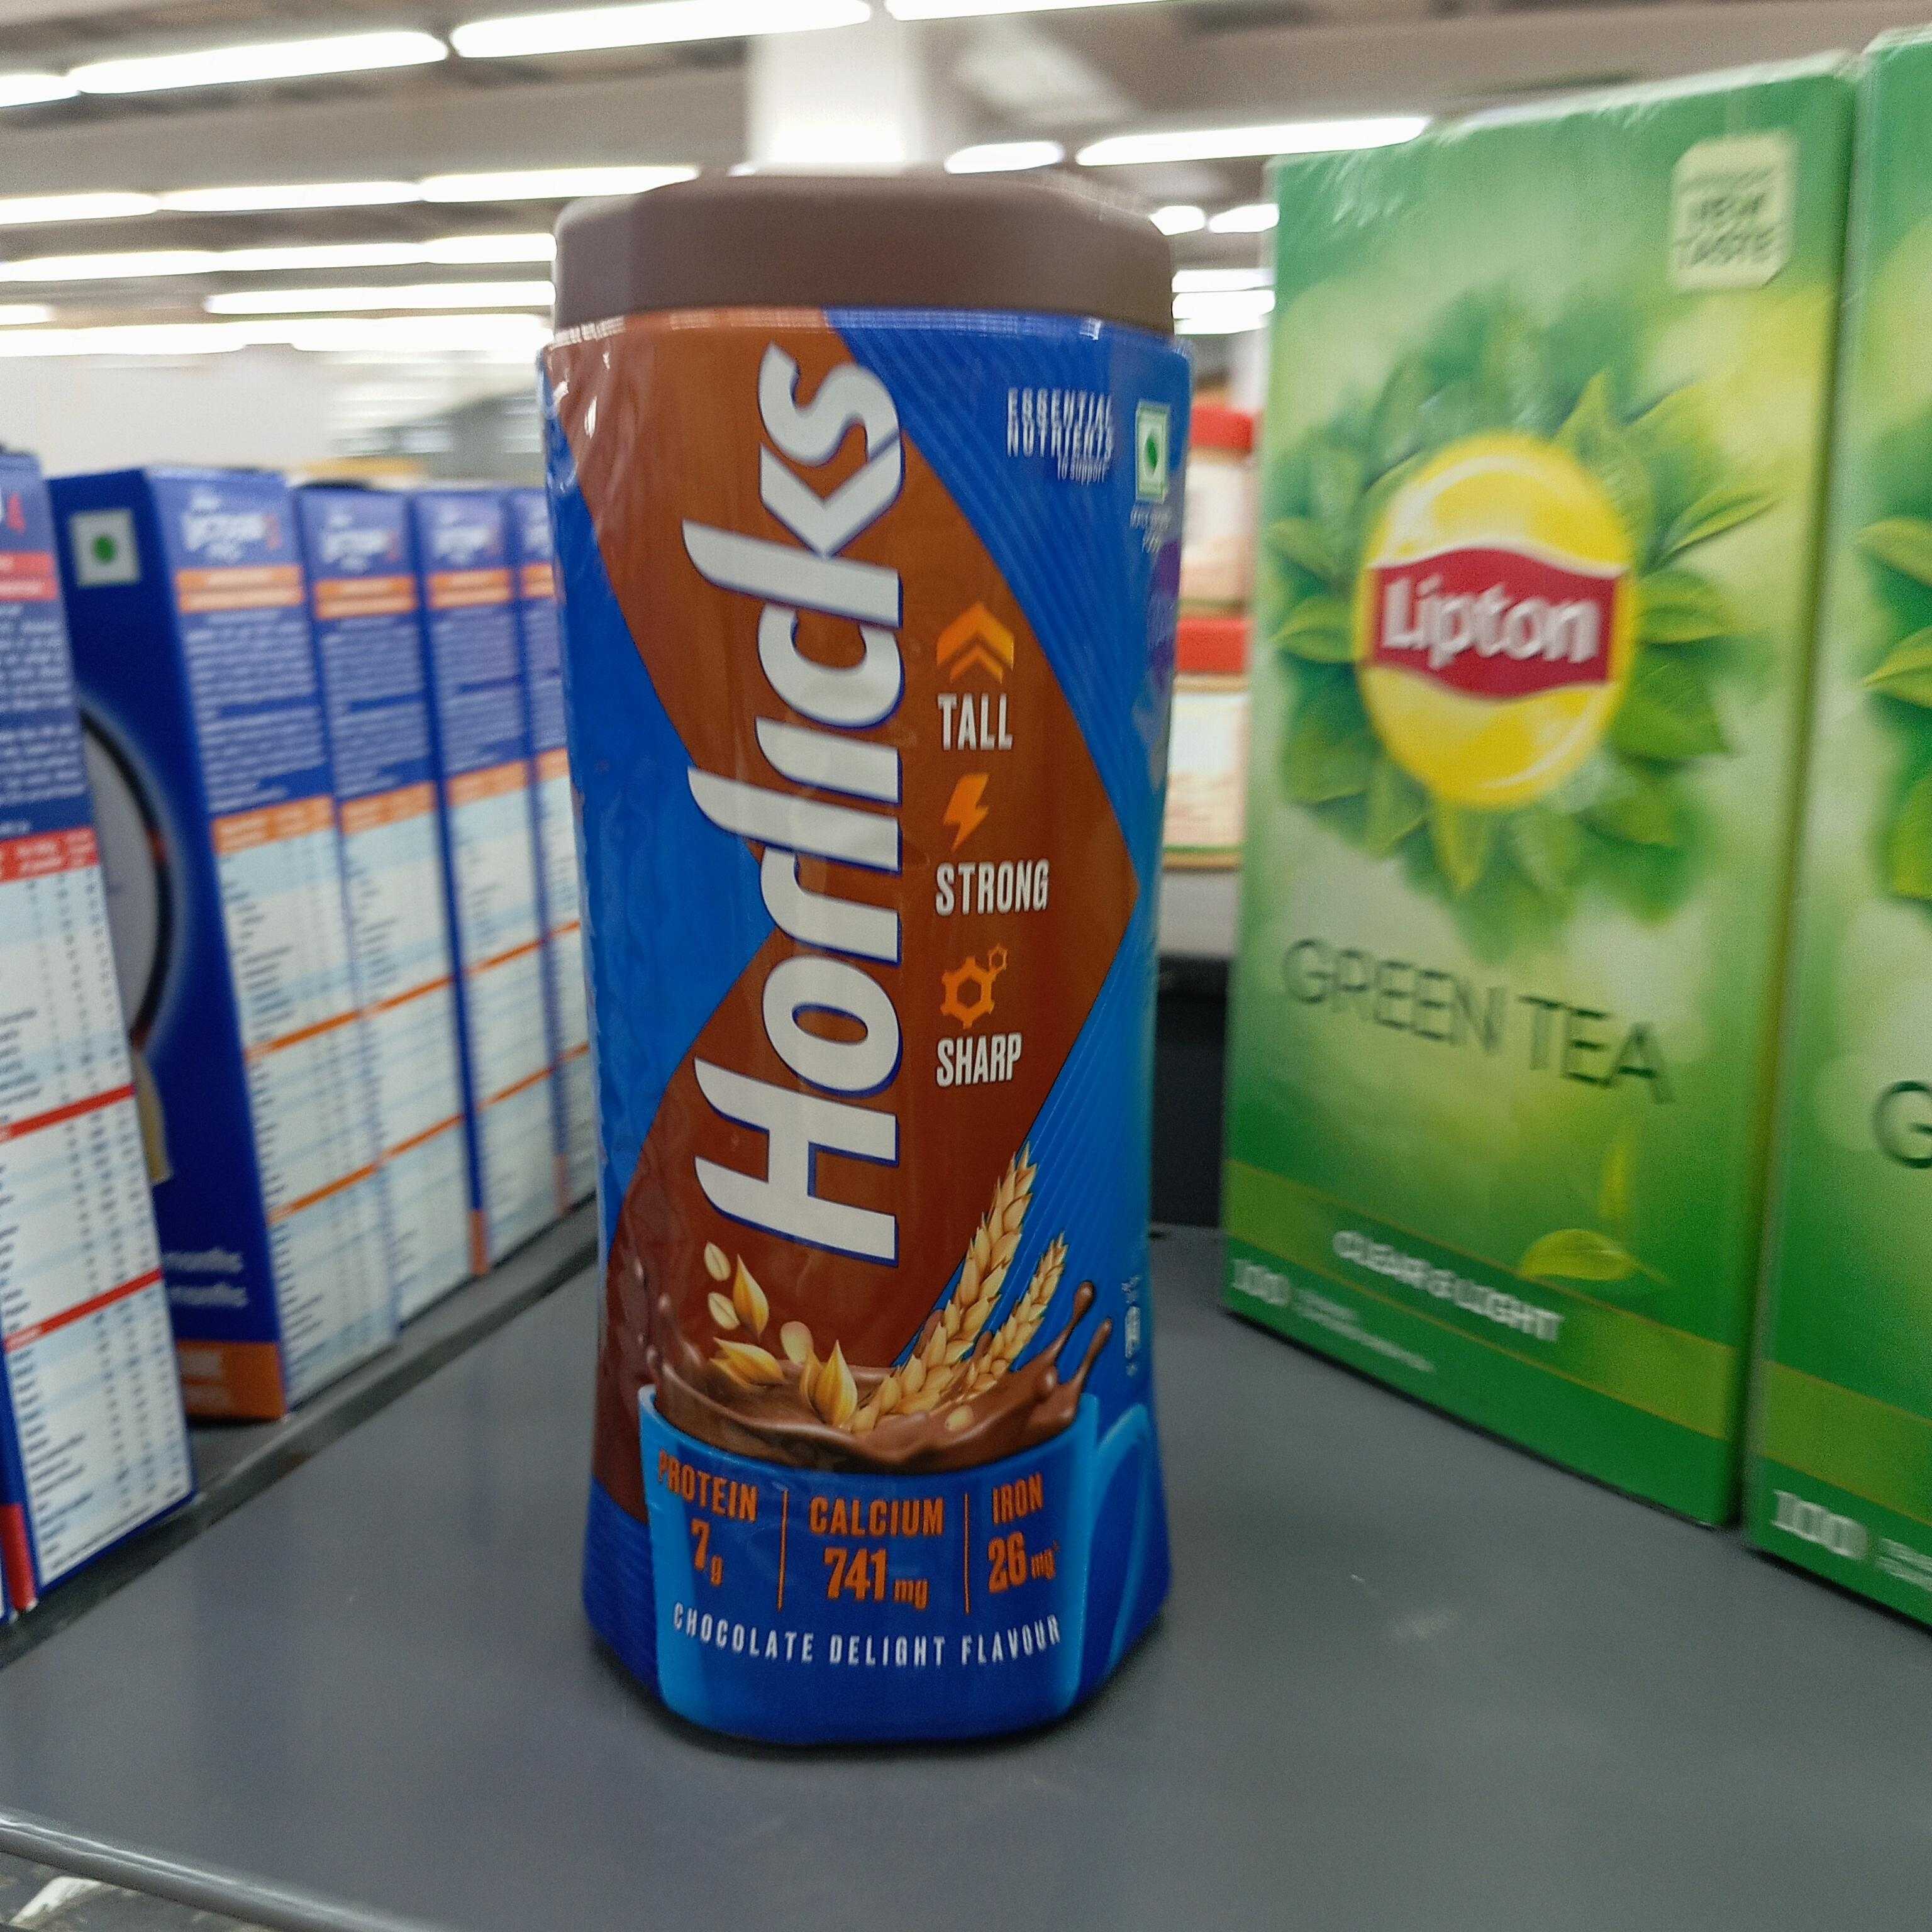HORLICK_CHOCOLATE_1_KG_JAR: (554, 186, 1184, 1764)
